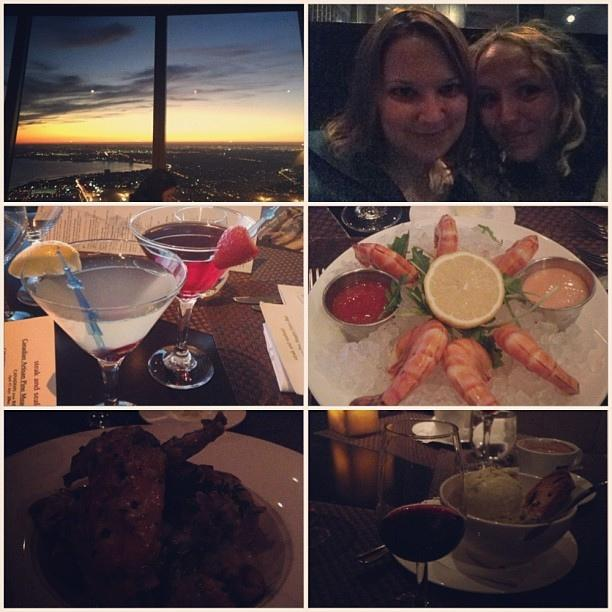lemon: (424, 250, 505, 329), (8, 240, 82, 280)
strawberry: (213, 224, 259, 270)
